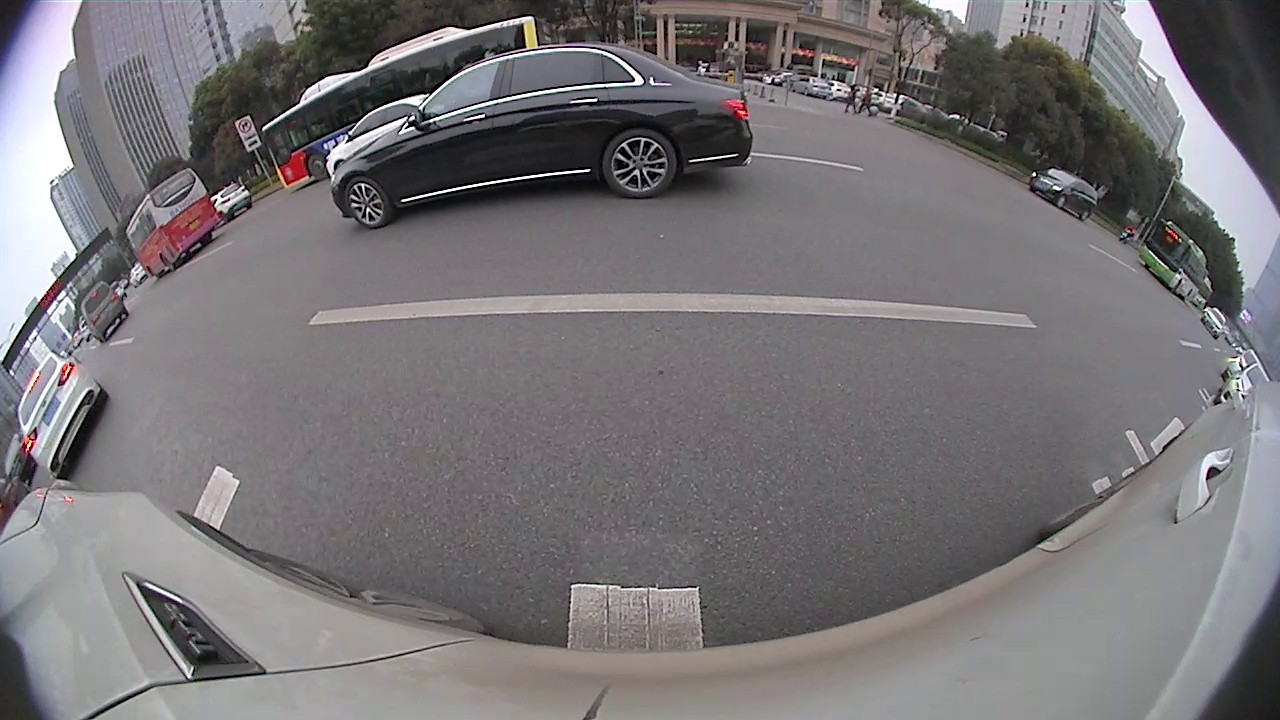bus: (259, 14, 542, 195), (124, 165, 225, 280), (1138, 219, 1210, 303)
car: (329, 40, 755, 231), (12, 346, 110, 483), (327, 91, 435, 182), (1028, 164, 1101, 222), (79, 280, 129, 344), (1212, 361, 1272, 407), (209, 181, 253, 224), (1200, 306, 1228, 340)
front: (337, 173, 396, 230), (305, 152, 332, 183)
rear: (603, 128, 681, 198), (89, 386, 113, 410), (53, 464, 73, 484)
